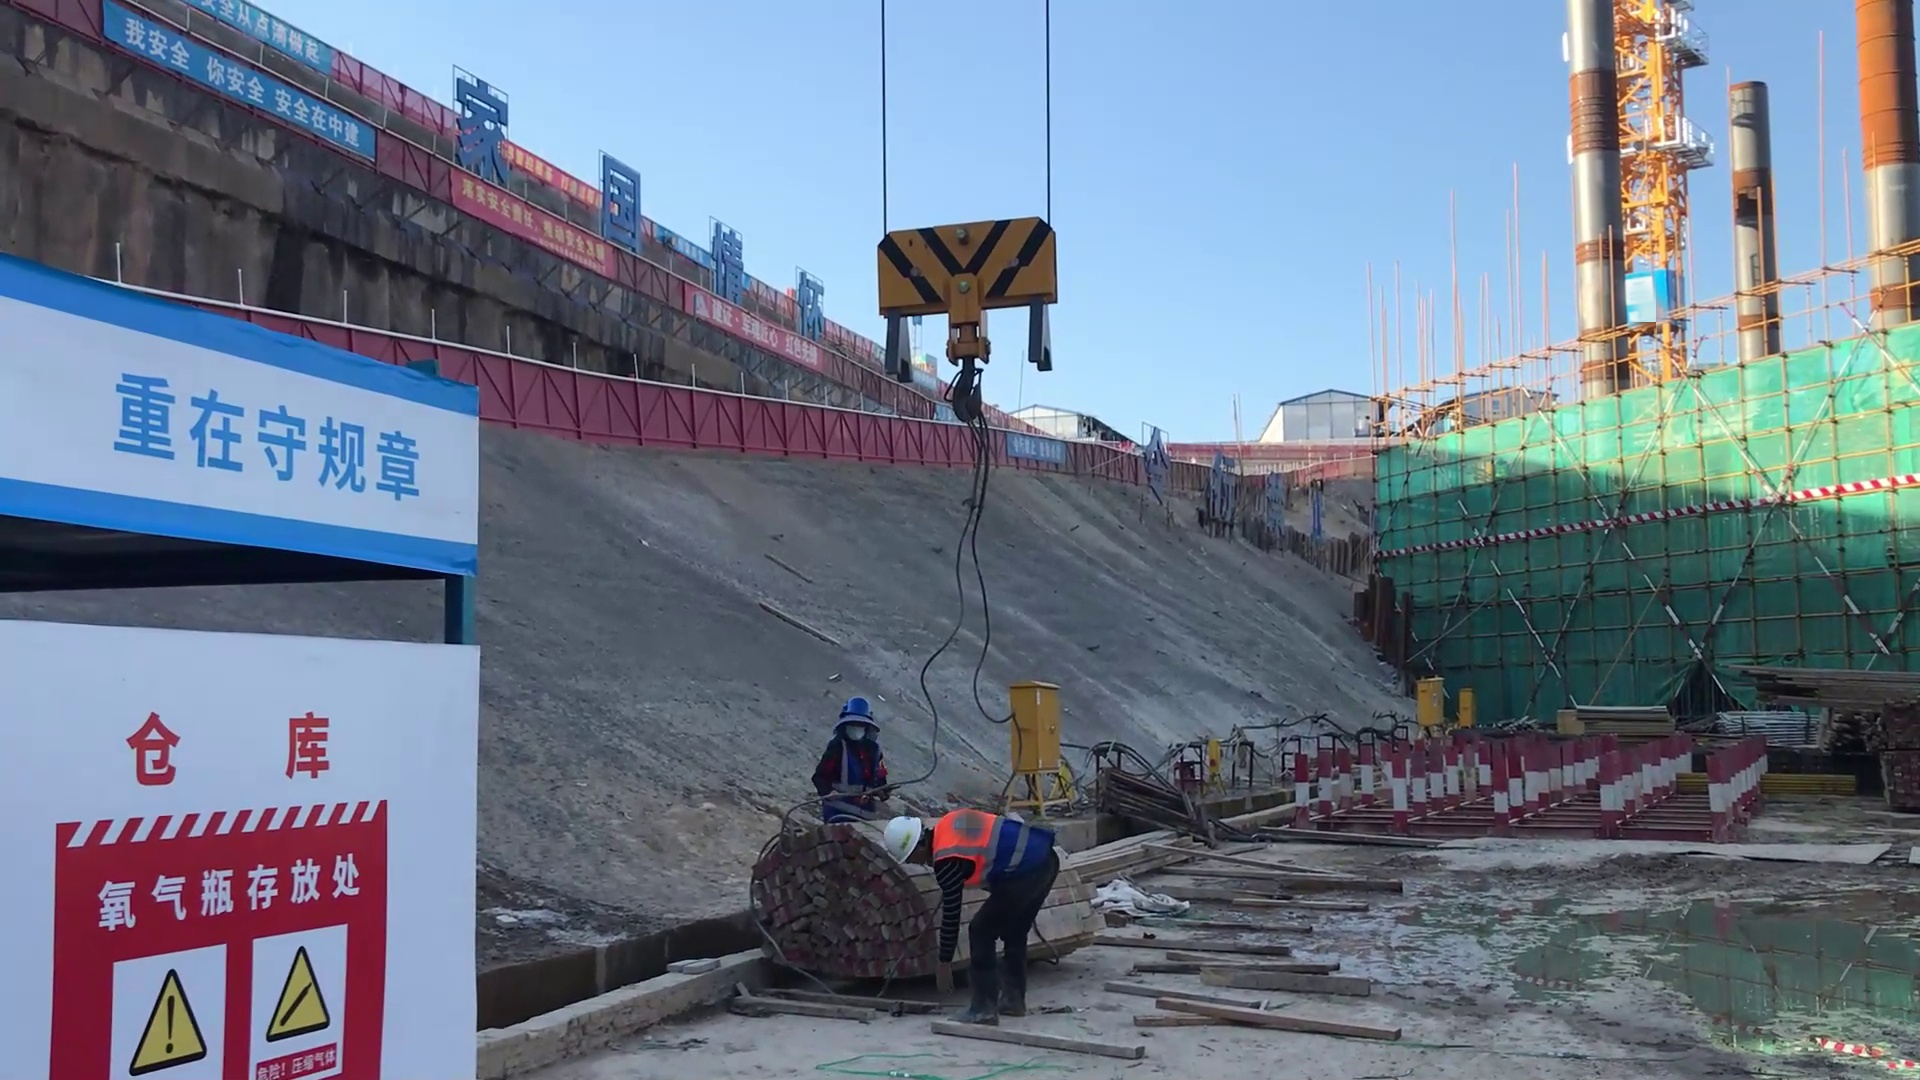ebox: (1004, 671, 1070, 781), (1409, 672, 1438, 731), (1455, 689, 1480, 735)
fence: (475, 348, 800, 452), (793, 402, 957, 472)
helmet: (880, 817, 928, 865), (836, 690, 879, 741)
hook: (870, 193, 1069, 378)
person: (887, 803, 1064, 1018), (811, 690, 901, 824)
slogan: (82, 18, 369, 229), (103, 375, 434, 520), (401, 157, 656, 333), (104, 939, 339, 1080)
vest: (926, 809, 999, 881)
wood: (741, 824, 903, 1005), (1730, 653, 1920, 716)
